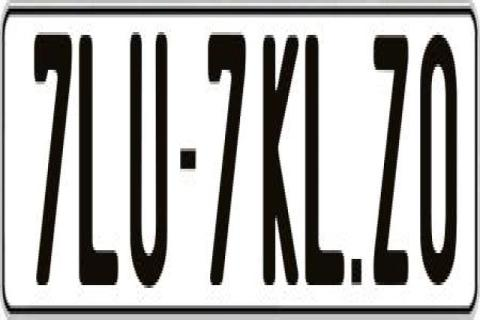0: (205, 27, 248, 286), (417, 27, 460, 286), (30, 29, 70, 282)
K: (264, 29, 302, 282)
L: (303, 26, 346, 294), (77, 26, 118, 276)
U: (129, 26, 173, 291)
Z: (372, 32, 414, 294)
